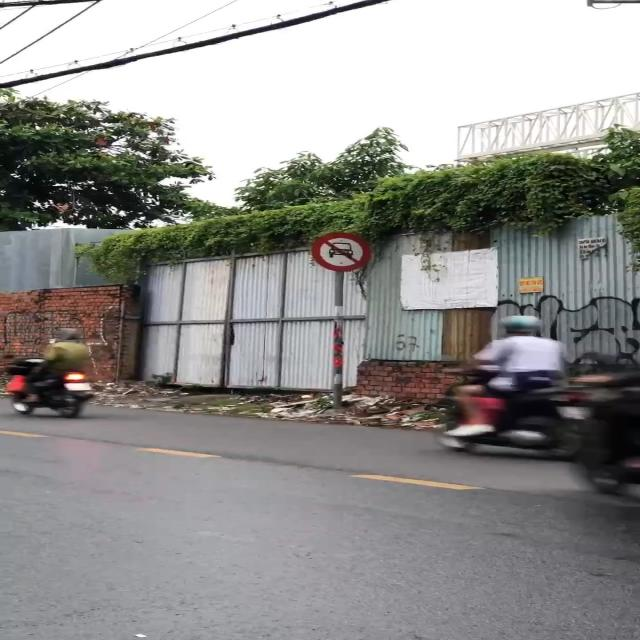Bien bao cam xe oto: (308, 231, 381, 274)
